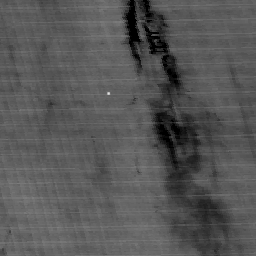Target: (104, 90, 113, 97)
